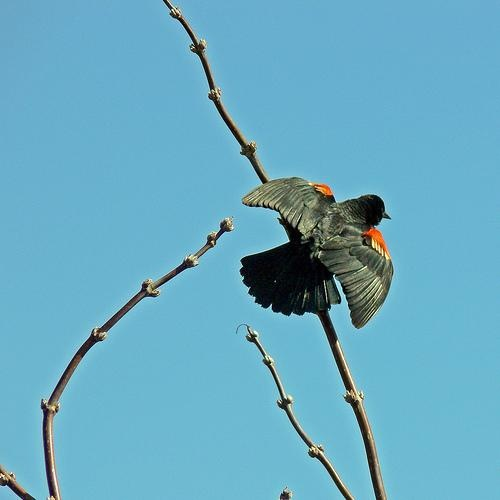bird: (238, 174, 393, 331)
